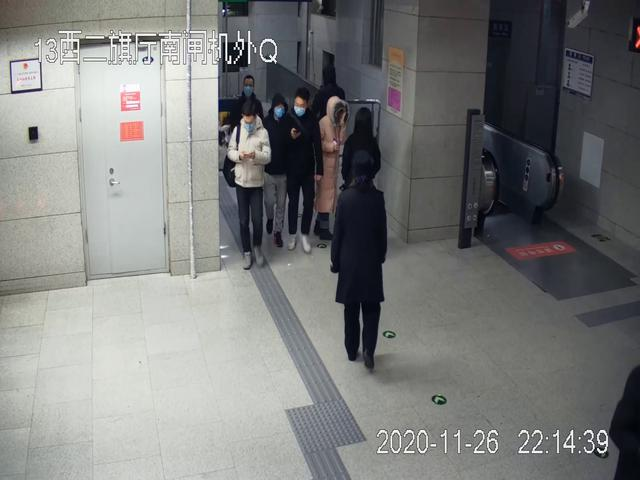person: (332, 150, 390, 373), (225, 107, 271, 271), (286, 89, 323, 253), (310, 97, 343, 238), (263, 94, 291, 247)
